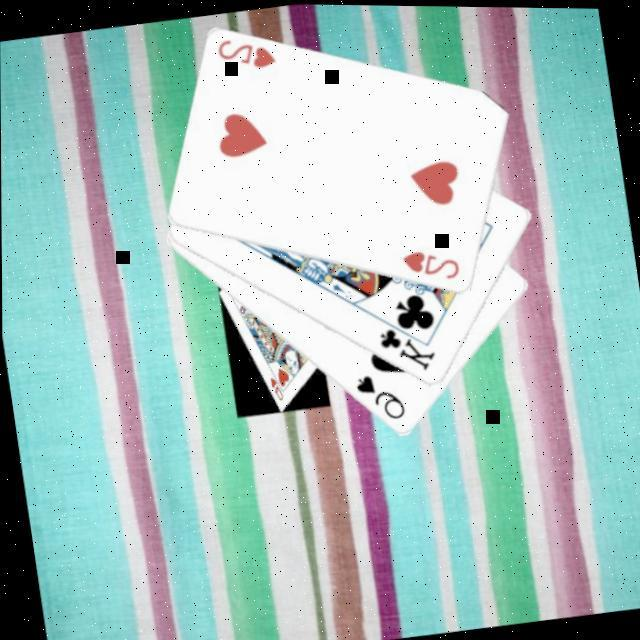2H: (396, 240, 462, 288), (211, 29, 278, 76)
9S: (348, 365, 407, 427)
KC: (371, 306, 438, 378)
